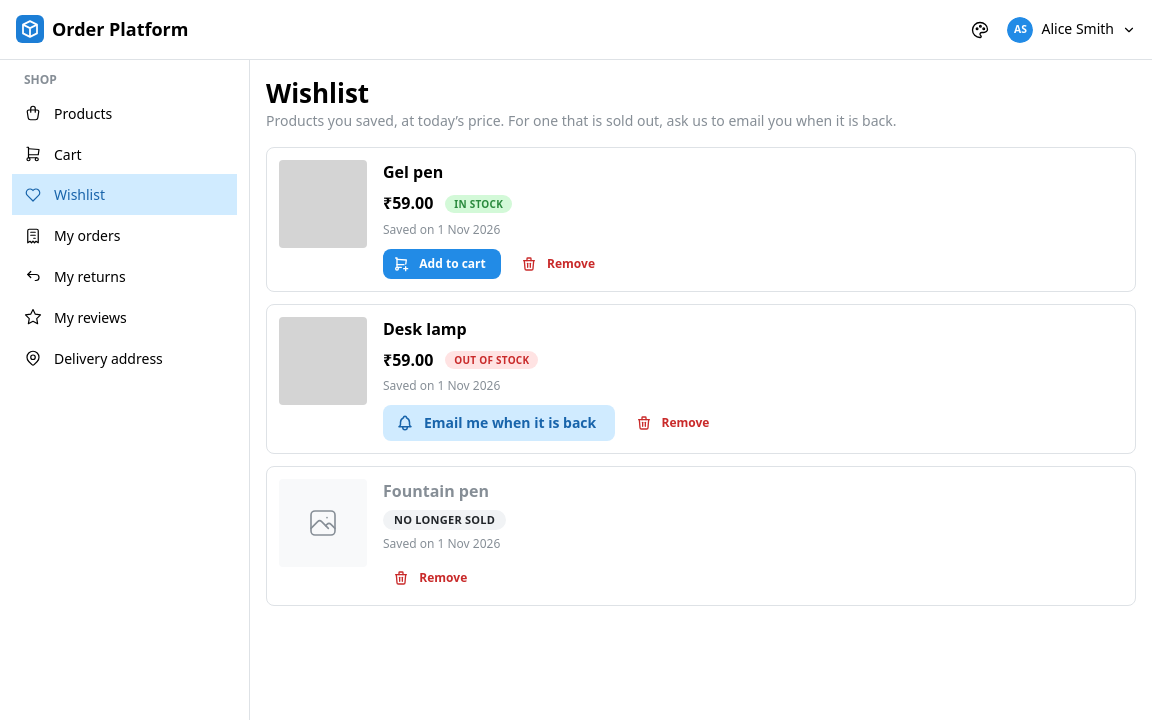
Test: wishlist › lists saved products with today’s price, adds one to the cart, and removes another
Expected: the text "₹59.00" next to "In stock" is shown, x1=383 y1=192 x2=433 y2=214
Click the button "Add to cart" at [442, 264], box x1=383 y1=249 x2=501 y2=279
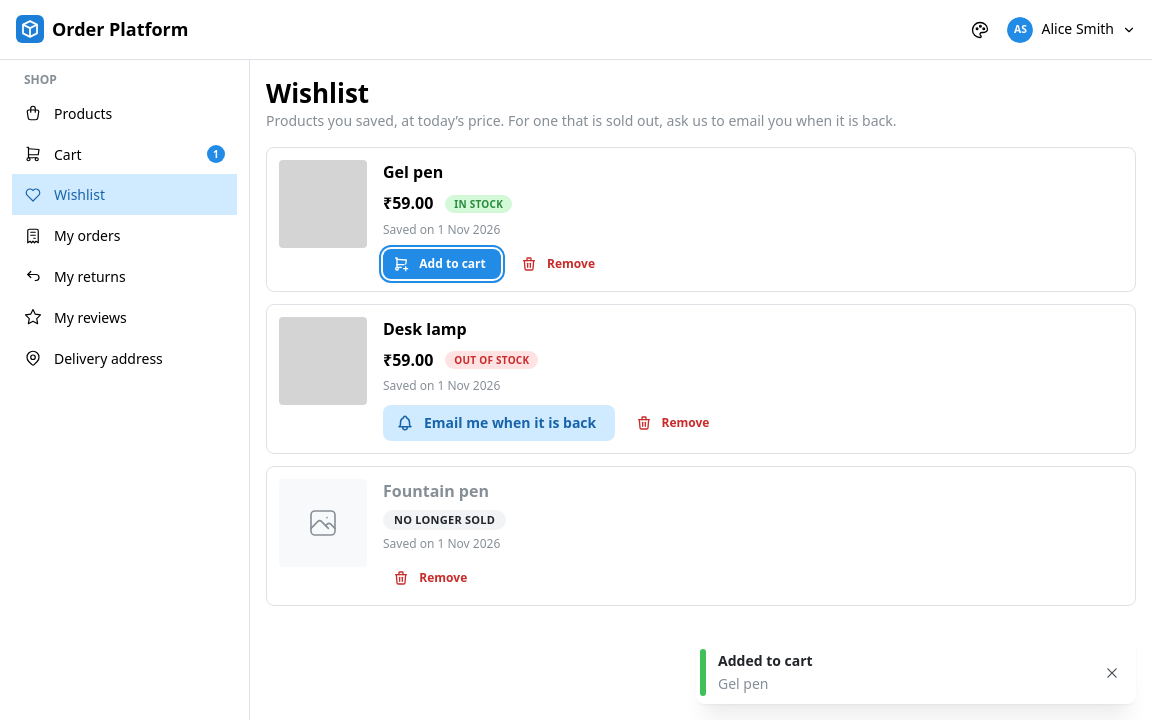
Expected: the button "Email me when it is back" is shown, x1=383 y1=405 x2=615 y2=441
Result: the text "Added to cart" is shown at x1=718 y1=651 x2=813 y2=670
Click the button with aria-label "Remove Fountain pen" at [433, 578], box x1=383 y1=563 x2=482 y2=593
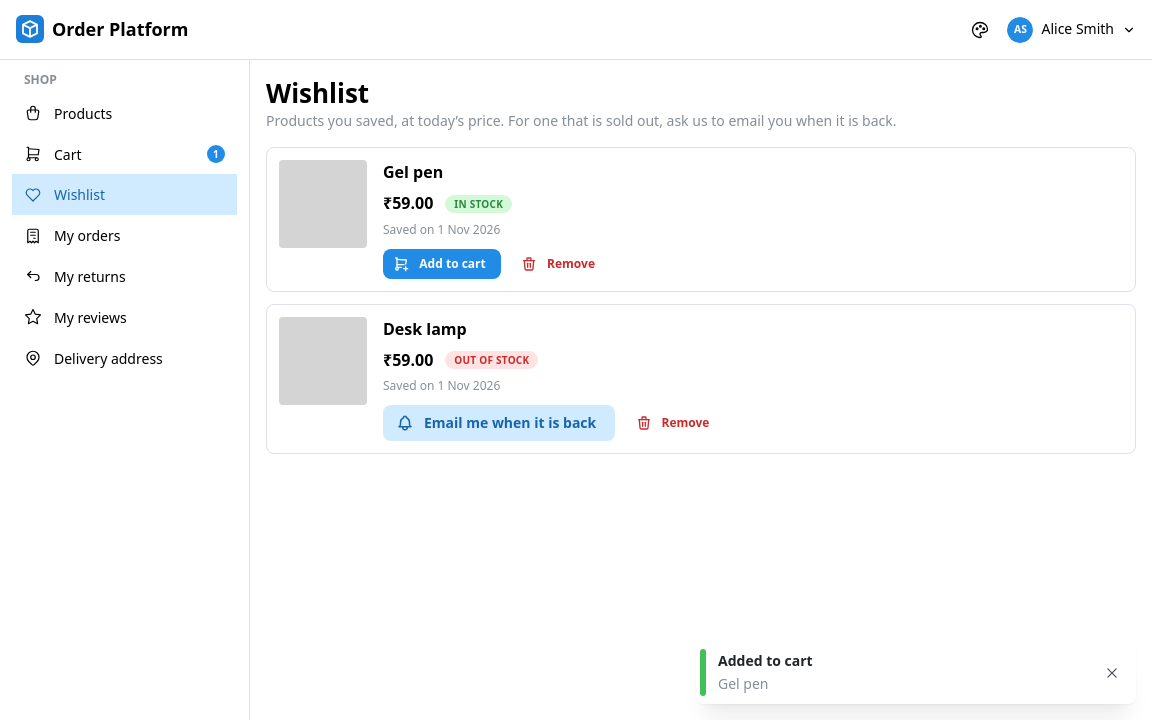
Result: the text "Fountain pen" is gone
